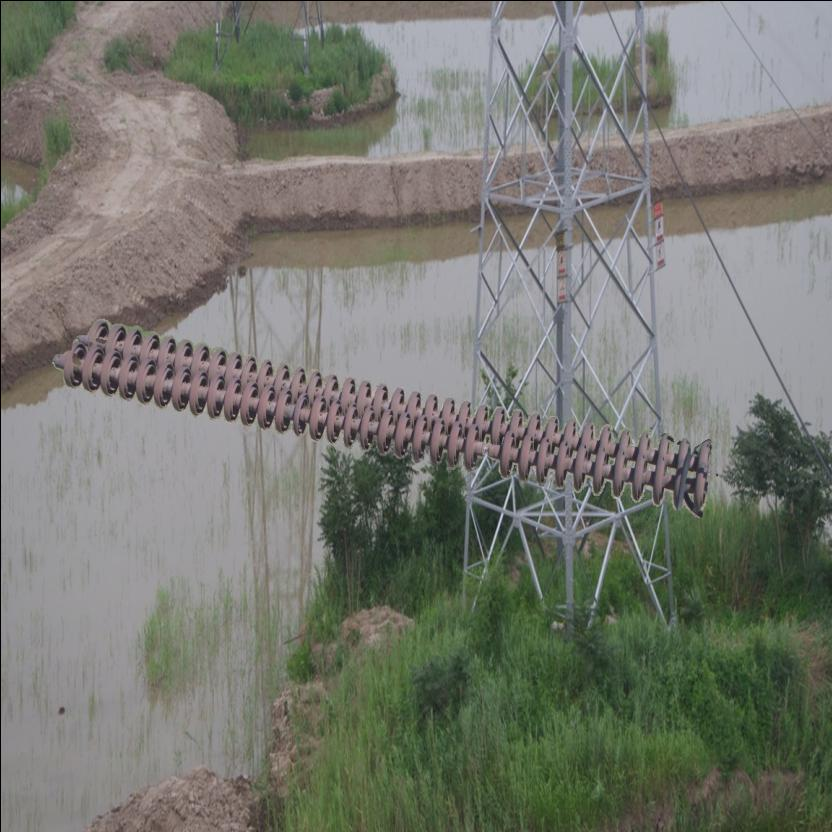defect: (460, 420, 516, 480)
